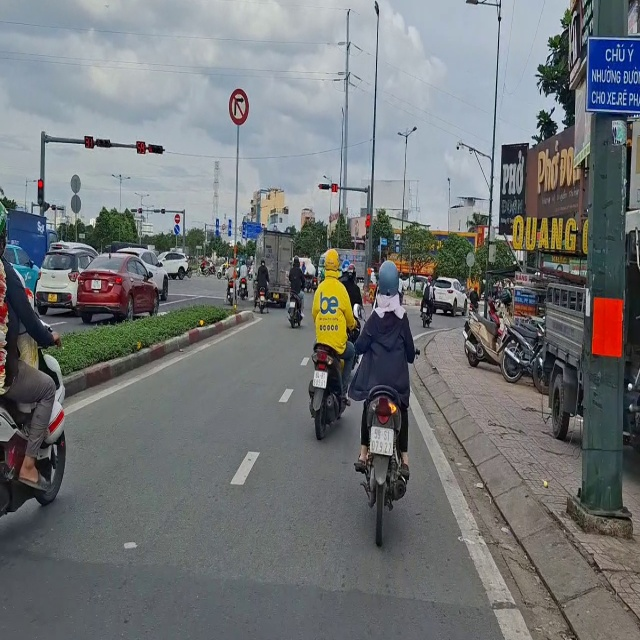cam queo phai: (214, 76, 256, 126)
